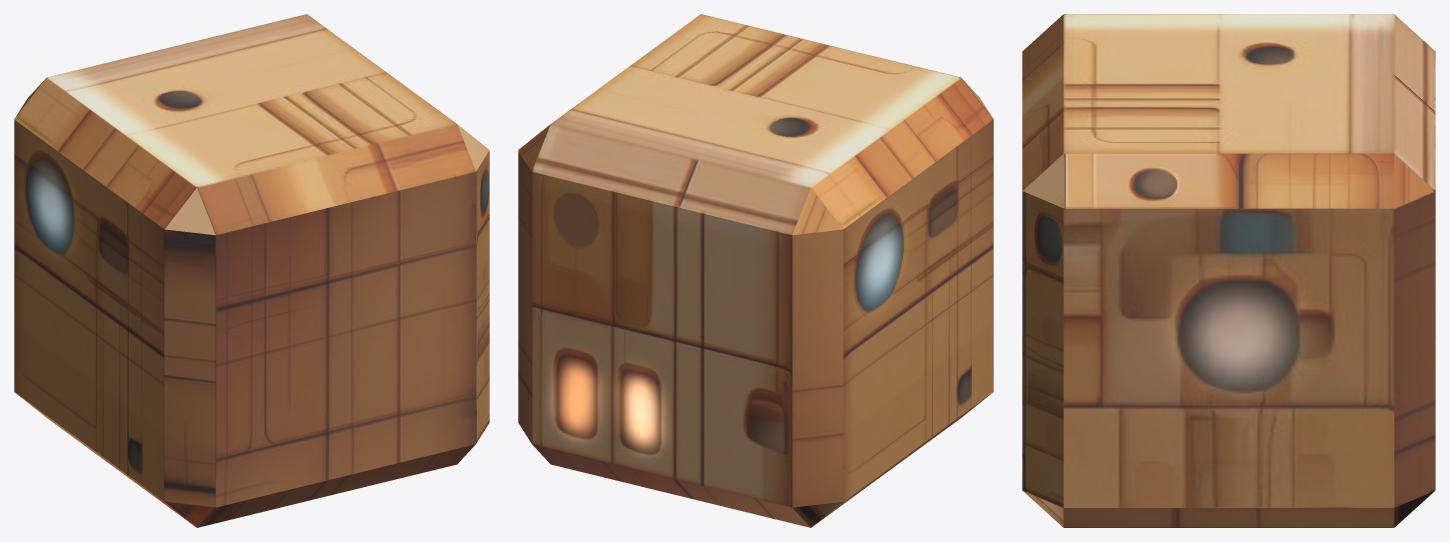
File: city_asset_2.glb
The picture shows the model from 3 angles, left to right: view 1: azimuth 30°, elevation 25°; view 2: azimuth 150°, elevation 25°; view 3: azimuth 270°, elevation 25°; orthographic projection. The views are drawn at different scales.
Visible parts, largest first — view 1: Cube.006; view 2: Cube.006; view 3: Cube.006.
Part boxes in pixels (bbox=[...]): Cube.006: bbox=[14, 14, 489, 527]; Cube.006: bbox=[518, 14, 993, 527]; Cube.006: bbox=[1022, 14, 1435, 527].
Bounding box in the file's own units: 1 × 1 × 1.
Materials: 1 (1 with a texture image).
